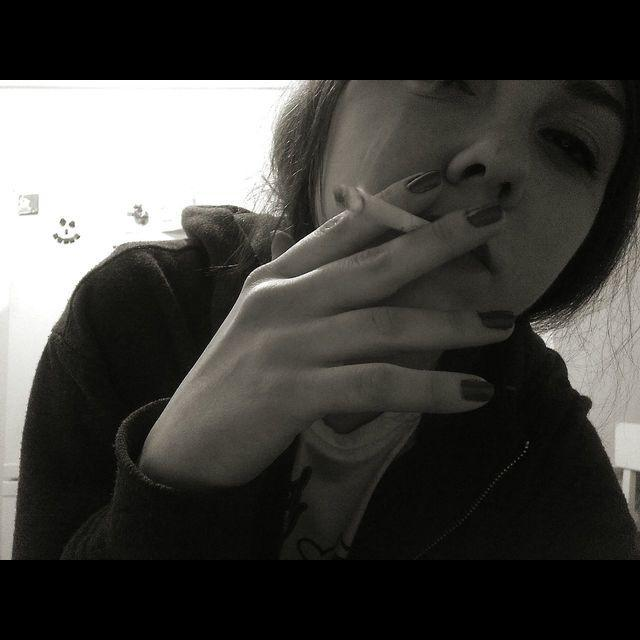rokok: (326, 177, 432, 237)
